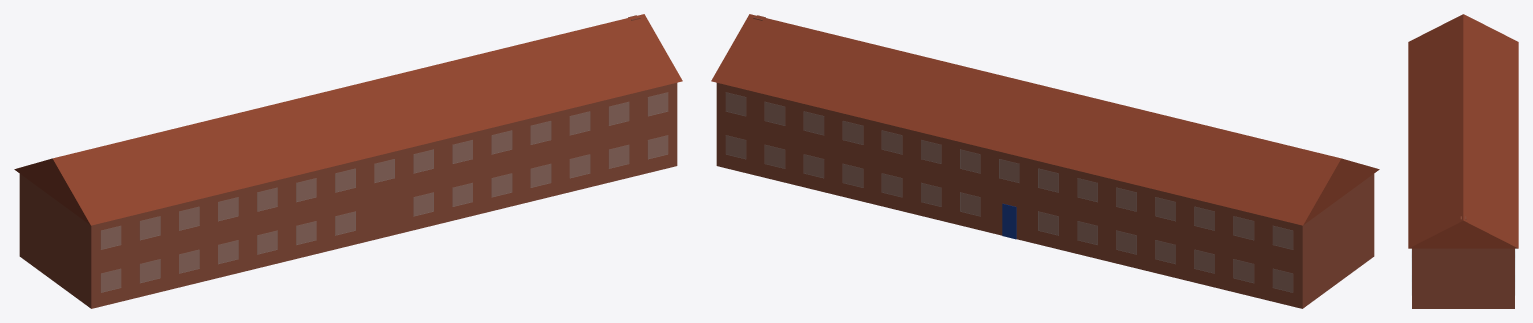
The model's file is context.house_terrace_8.glb.
The picture shows the model from 3 angles, left to right: view 1: azimuth 30°, elevation 25°; view 2: azimuth 150°, elevation 25°; view 3: azimuth 270°, elevation 25°; orthographic projection. The views are drawn at different scales.
Parts seen in each view (by area): view 1: walls__brick, roof__clay_tile, openings__glass; view 2: walls__brick, roof__clay_tile, openings__glass, openings__plastic_blue; view 3: roof__clay_tile, walls__brick.
Boxes of the visible parts, box(x1,y1,x2,y2) form: walls__brick: box(19, 83, 677, 308); roof__clay_tile: box(14, 14, 682, 225); openings__glass: box(101, 92, 667, 292); walls__brick: box(716, 83, 1374, 308); roof__clay_tile: box(711, 14, 1379, 225); openings__glass: box(726, 92, 1292, 292); openings__plastic_blue: box(1002, 203, 1016, 239); roof__clay_tile: box(1408, 14, 1518, 248); walls__brick: box(1412, 248, 1514, 308).
Size of the model in its own units: 40.4 by 8.15 by 9.1.
